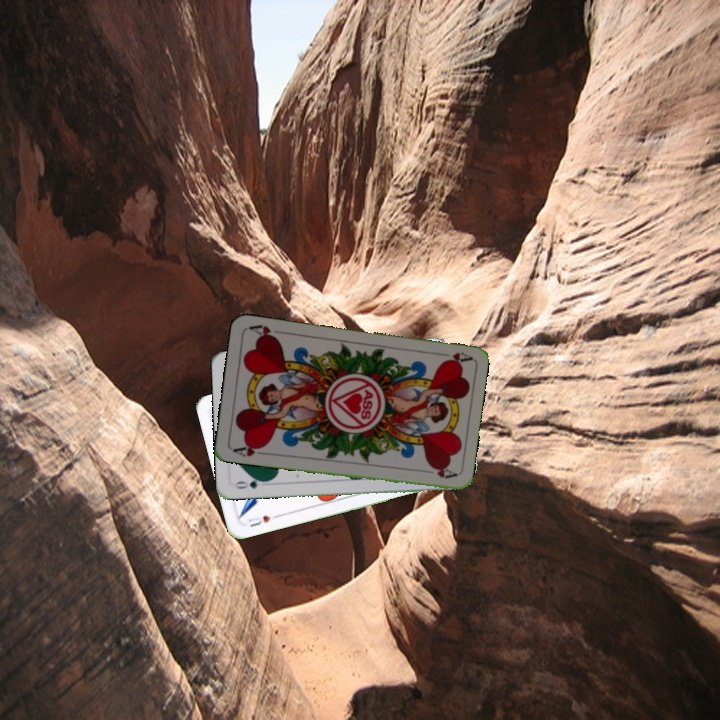GO: (231, 474, 271, 491)
HA: (229, 439, 270, 459), (432, 348, 473, 367)
HU: (244, 511, 281, 530)
